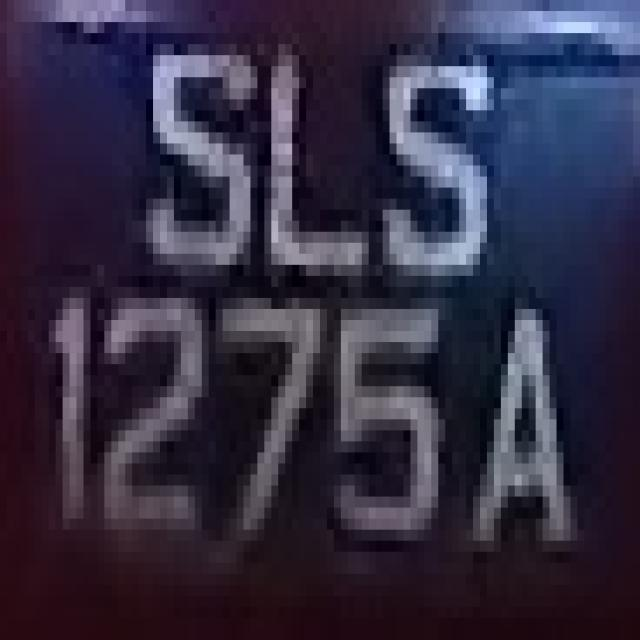1: (49, 254, 97, 574)
2: (90, 265, 222, 585)
5: (327, 276, 452, 585)
7: (202, 254, 327, 574)
A: (466, 265, 584, 585)
L: (257, 0, 369, 287)
S: (362, 55, 522, 287), (139, 22, 251, 254)
